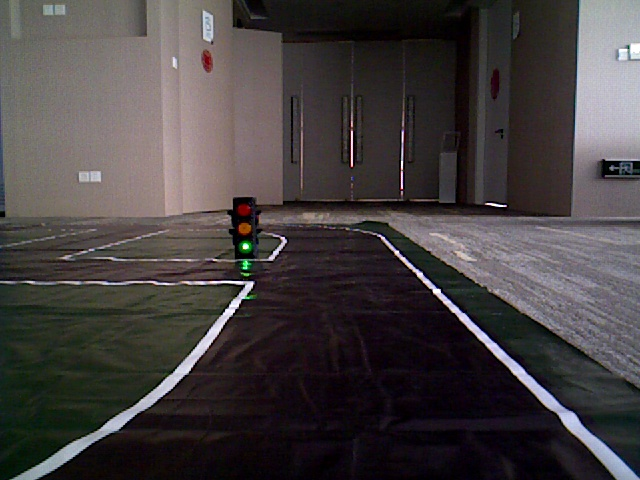green: (235, 198, 257, 254)
